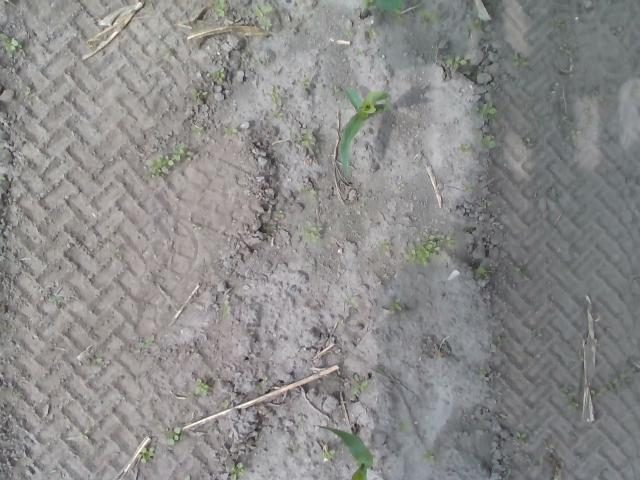Maize: (336, 80, 394, 181), (317, 419, 376, 480), (357, 0, 408, 24)
Weeds: (404, 228, 456, 268), (146, 142, 194, 177), (556, 112, 578, 142), (0, 32, 23, 58), (254, 4, 274, 30), (473, 100, 498, 120), (418, 7, 441, 27), (446, 53, 468, 73), (349, 373, 368, 396), (227, 461, 246, 480), (138, 445, 154, 464), (166, 426, 181, 446), (193, 376, 208, 396), (304, 225, 322, 241), (481, 134, 498, 150), (512, 52, 530, 66), (254, 375, 268, 391), (390, 296, 403, 313), (303, 126, 314, 146), (143, 334, 156, 350), (212, 0, 225, 16), (320, 448, 338, 459), (512, 432, 526, 446), (378, 238, 389, 255), (190, 86, 208, 96), (458, 143, 472, 155), (421, 450, 434, 462), (213, 66, 226, 78), (471, 18, 482, 32), (494, 336, 512, 344), (512, 264, 526, 274), (344, 295, 359, 304), (272, 111, 284, 122), (223, 126, 239, 134), (476, 265, 487, 276), (190, 126, 203, 135), (271, 88, 279, 102), (367, 28, 377, 38), (275, 209, 285, 218), (80, 432, 89, 440), (300, 79, 310, 86), (343, 30, 353, 36), (1, 176, 7, 182)
